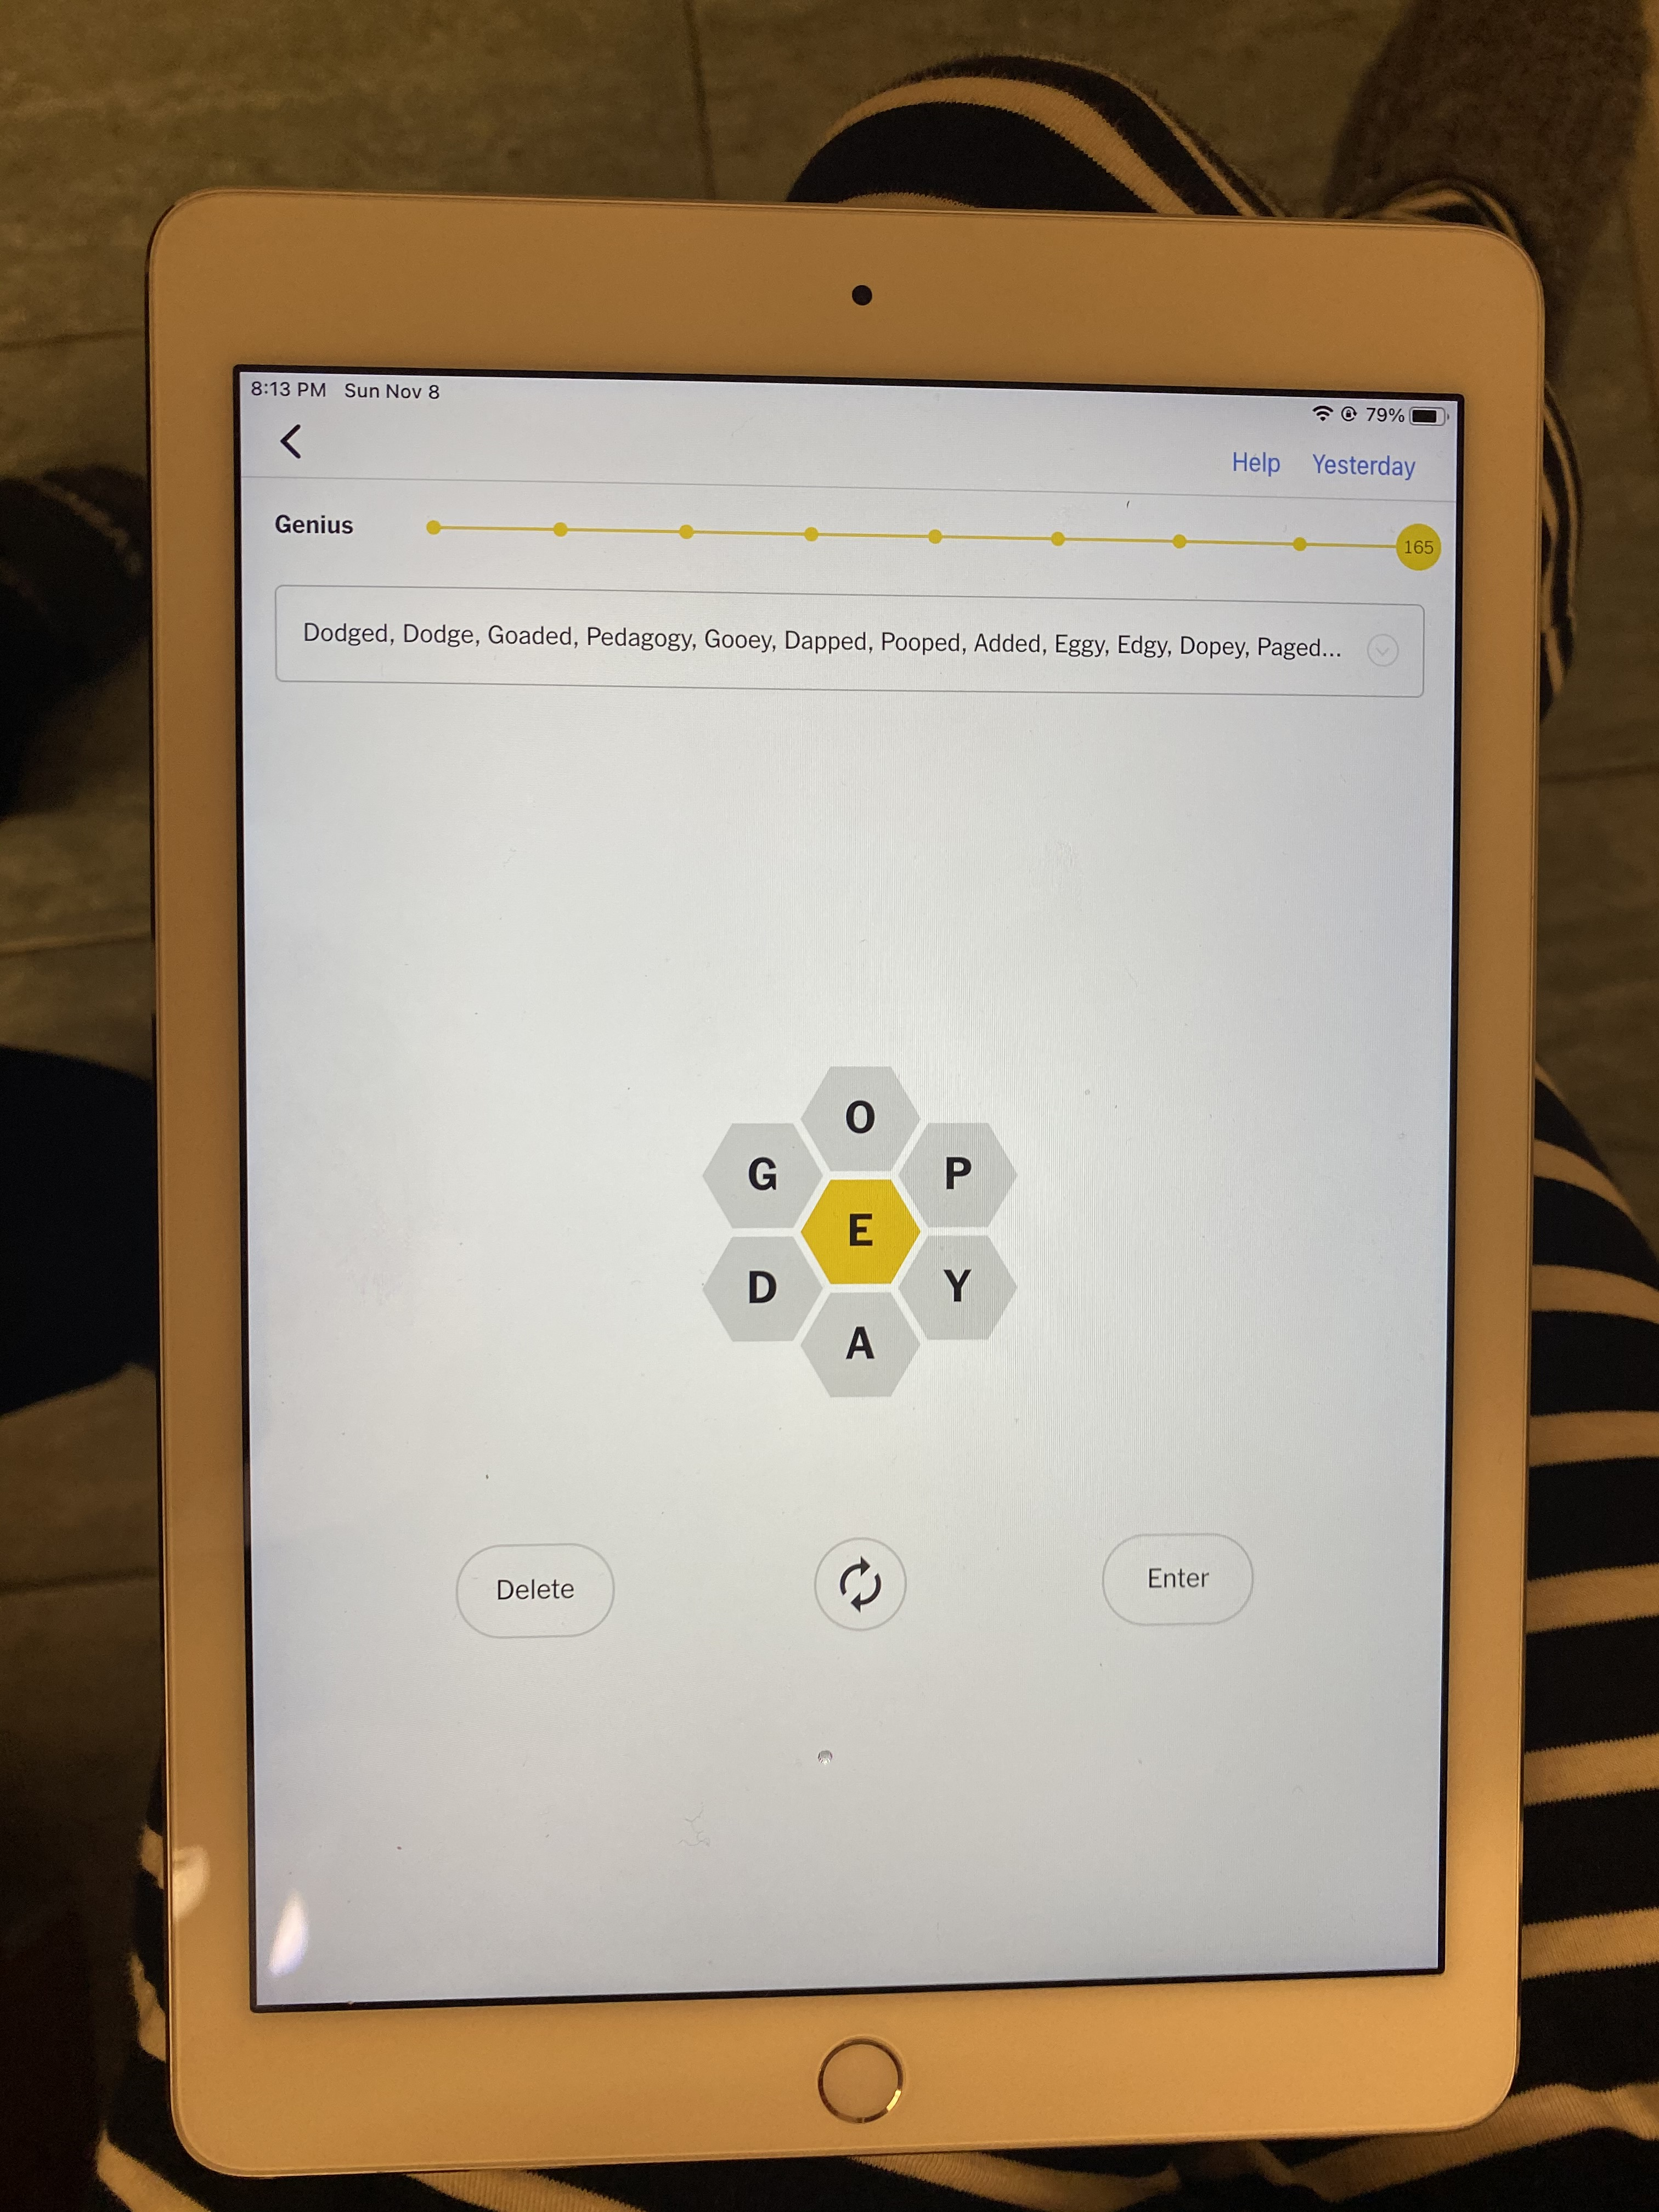Board: (681, 1059, 1039, 1425)
